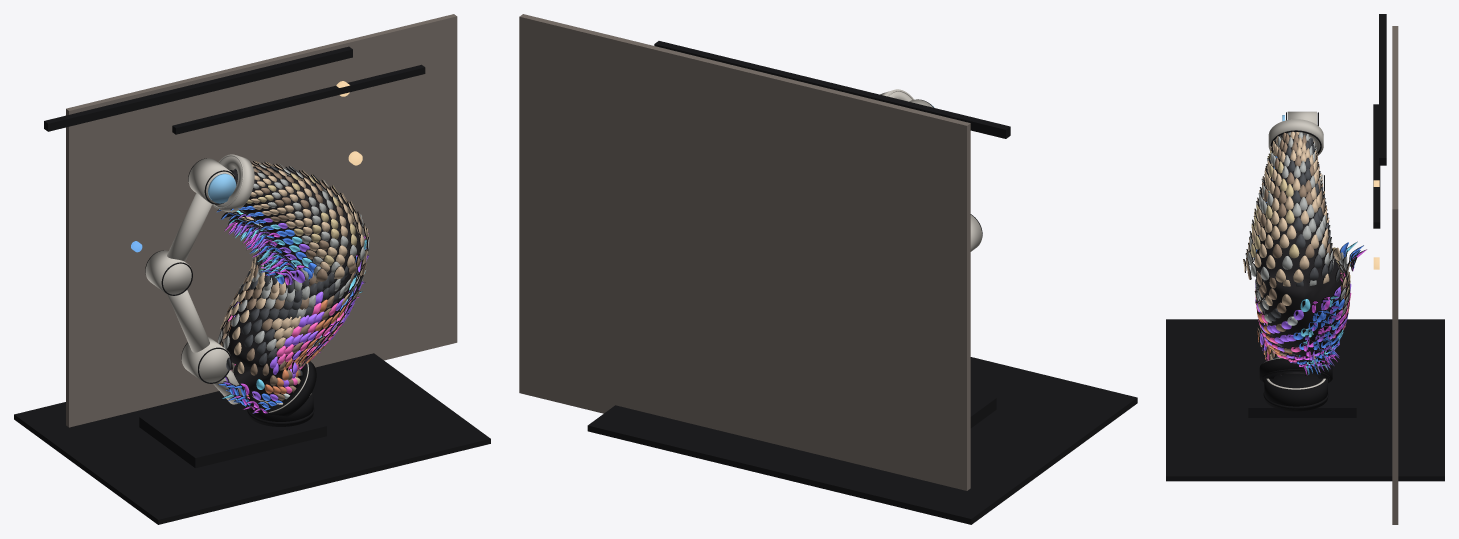
File: ur20-iridescent-scale-attachment.glb
3 renders of one model, left to right at view 1: azimuth 30°, elevation 25°; view 2: azimuth 150°, elevation 25°; view 3: azimuth 270°, elevation 25°, orthographic. The views are drawn at different scales.
Parts seen in each view (by area): view 1: soft_blurred_back_wall_panel, dark_industrial_floor, overlapping_iridescent_pangolin_scale_field, matte_black_robot_base_plate, continuous_black_underbody_visible_in_scale_gaps, overhead_dark_beam_1, overhead_dark_beam_2, raised_blue_violet_spike_crest, elbow_axis_joint_silver_drum, shoulder_axis_joint_silver_drum, rear_UR20_upper_link_silver, rear_UR20_vertical_link_silver (+5 smaller); view 2: soft_blurred_back_wall_panel, dark_industrial_floor, overhead_dark_beam_1; view 3: dark_industrial_floor, overlapping_iridescent_pangolin_scale_field, continuous_black_underbody_visible_in_scale_gaps, matte_black_robot_base_plate, soft_blurred_back_wall_panel, black_rotary_base_column, raised_blue_violet_spike_crest, overhead_dark_beam_1, black_lower_scale_socket_collar, brushed_top_transition_collar, overhead_dark_beam_2.
Boxes of the visible parts, x1=… form: soft_blurred_back_wall_panel: x1=66, y1=14, x2=457, y2=427; dark_industrial_floor: x1=14, y1=353, x2=490, y2=524; overlapping_iridescent_pangolin_scale_field: x1=217, y1=160, x2=369, y2=413; matte_black_robot_base_plate: x1=139, y1=396, x2=326, y2=468; continuous_black_underbody_visible_in_scale_gaps: x1=226, y1=170, x2=360, y2=400; overhead_dark_beam_1: x1=44, y1=46, x2=352, y2=131; overhead_dark_beam_2: x1=172, y1=64, x2=425, y2=134; raised_blue_violet_spike_crest: x1=218, y1=220, x2=369, y2=405; elbow_axis_joint_silver_drum: x1=145, y1=250, x2=191, y2=295; shoulder_axis_joint_silver_drum: x1=181, y1=336, x2=229, y2=383; rear_UR20_upper_link_silver: x1=167, y1=193, x2=212, y2=261; rear_UR20_vertical_link_silver: x1=167, y1=290, x2=209, y2=352; soft_blurred_back_wall_panel: x1=519, y1=14, x2=970, y2=490; dark_industrial_floor: x1=587, y1=357, x2=1137, y2=524; overhead_dark_beam_1: x1=654, y1=41, x2=1010, y2=138; dark_industrial_floor: x1=1166, y1=319, x2=1444, y2=481; overlapping_iridescent_pangolin_scale_field: x1=1243, y1=131, x2=1360, y2=369; continuous_black_underbody_visible_in_scale_gaps: x1=1254, y1=136, x2=1341, y2=375; matte_black_robot_base_plate: x1=1248, y1=346, x2=1356, y2=417; soft_blurred_back_wall_panel: x1=1392, y1=26, x2=1398, y2=524; black_rotary_base_column: x1=1264, y1=373, x2=1327, y2=411; raised_blue_violet_spike_crest: x1=1303, y1=241, x2=1366, y2=375; overhead_dark_beam_1: x1=1379, y1=14, x2=1386, y2=165; black_lower_scale_socket_collar: x1=1259, y1=358, x2=1332, y2=382; brushed_top_transition_collar: x1=1268, y1=119, x2=1323, y2=155; overhead_dark_beam_2: x1=1373, y1=104, x2=1380, y2=228.
Bounding box in the file's own units: 3 × 2.25 × 1.8.
